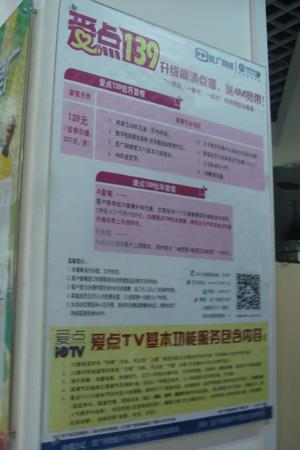bill: (47, 1, 270, 441)
